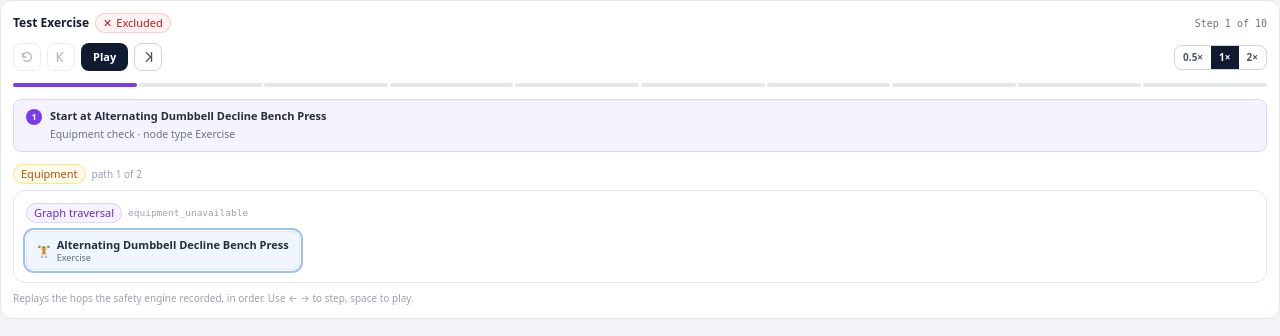
Scenario: TraversalReplay player › toggles play and pause
Click the button with aria-label "Play replay".
click(105, 57)  # box [81,43,128,71]
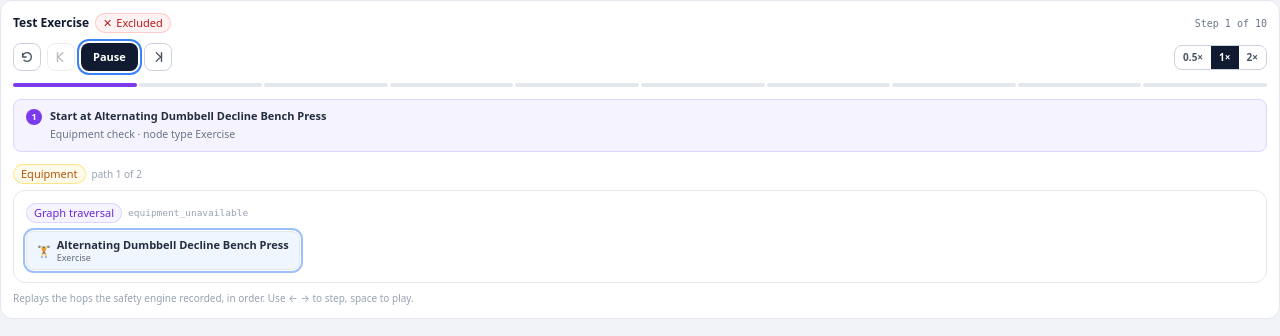
Result: the button with aria-label "Pause replay" is shown
Click the button with aria-label "Pause replay".
click(109, 57)  # box [81,43,138,71]
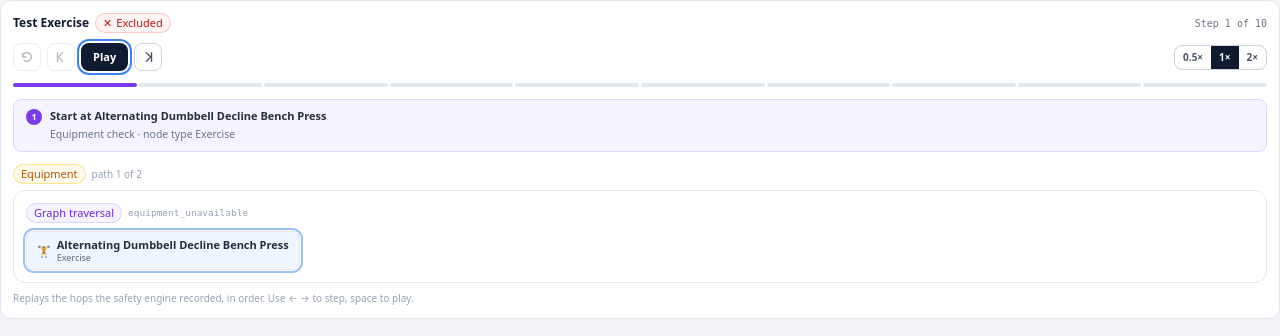
Result: the button with aria-label "Play replay" is shown at [81,43,128,71]
